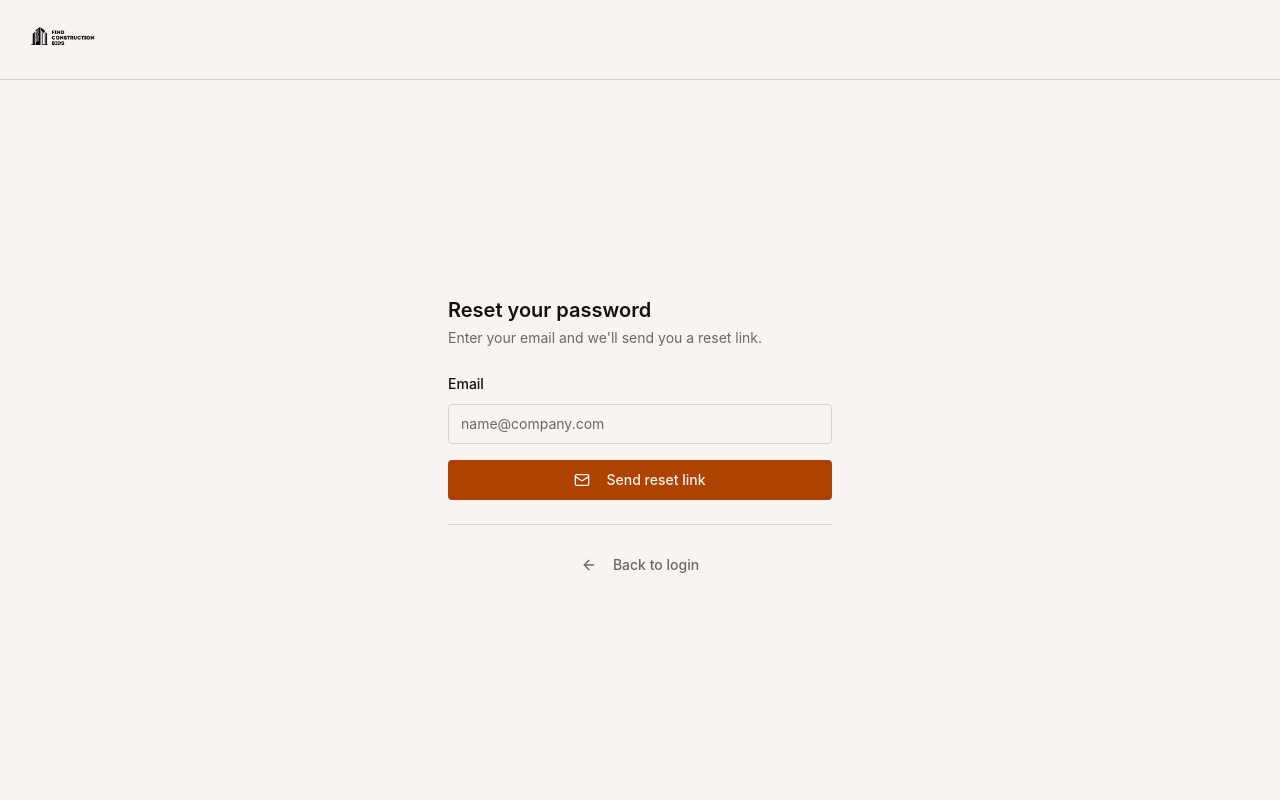
ForgotPasswordPage › API error handling › shows a "Request failed" toast when the API returns a server error
In the field with test id "input-email": (640, 424) [448,404,832,444], type "user@example.com"
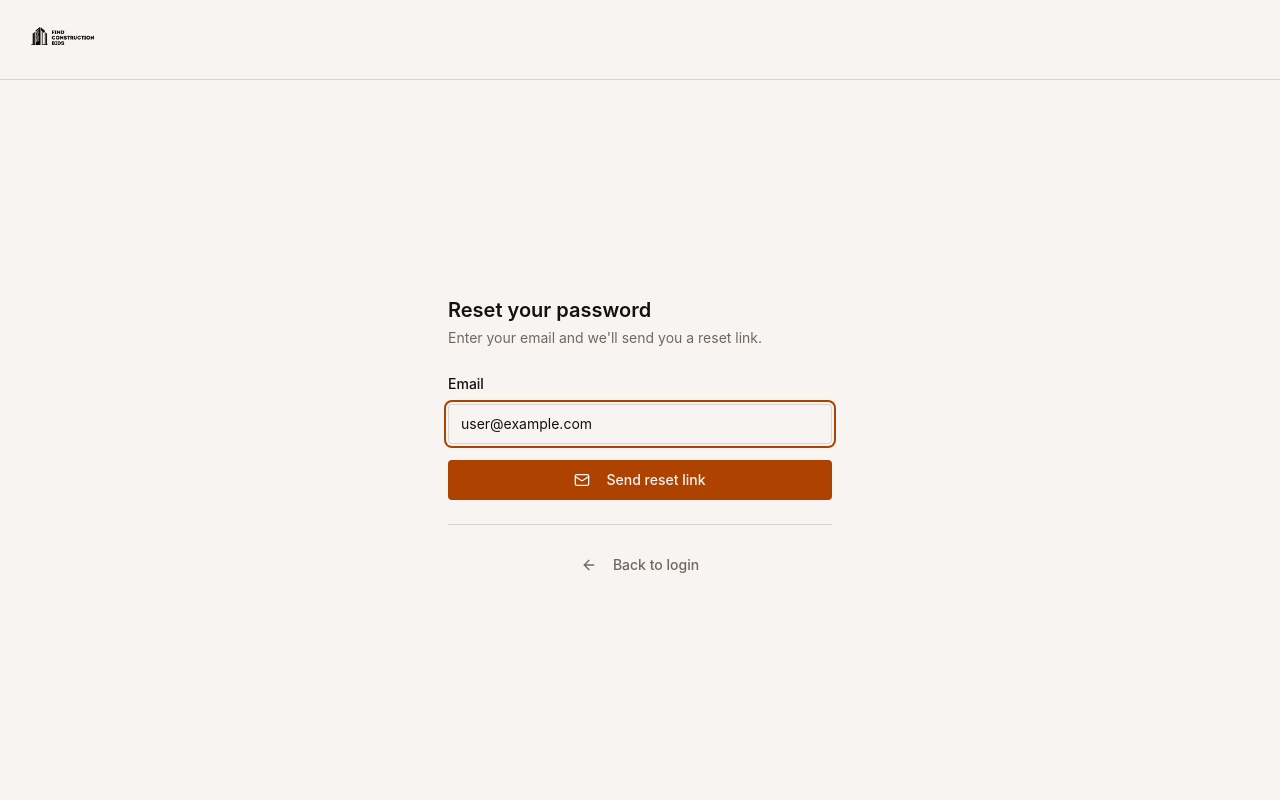
Click the button with test id "button-send-reset": (640, 480) [448,460,832,500]
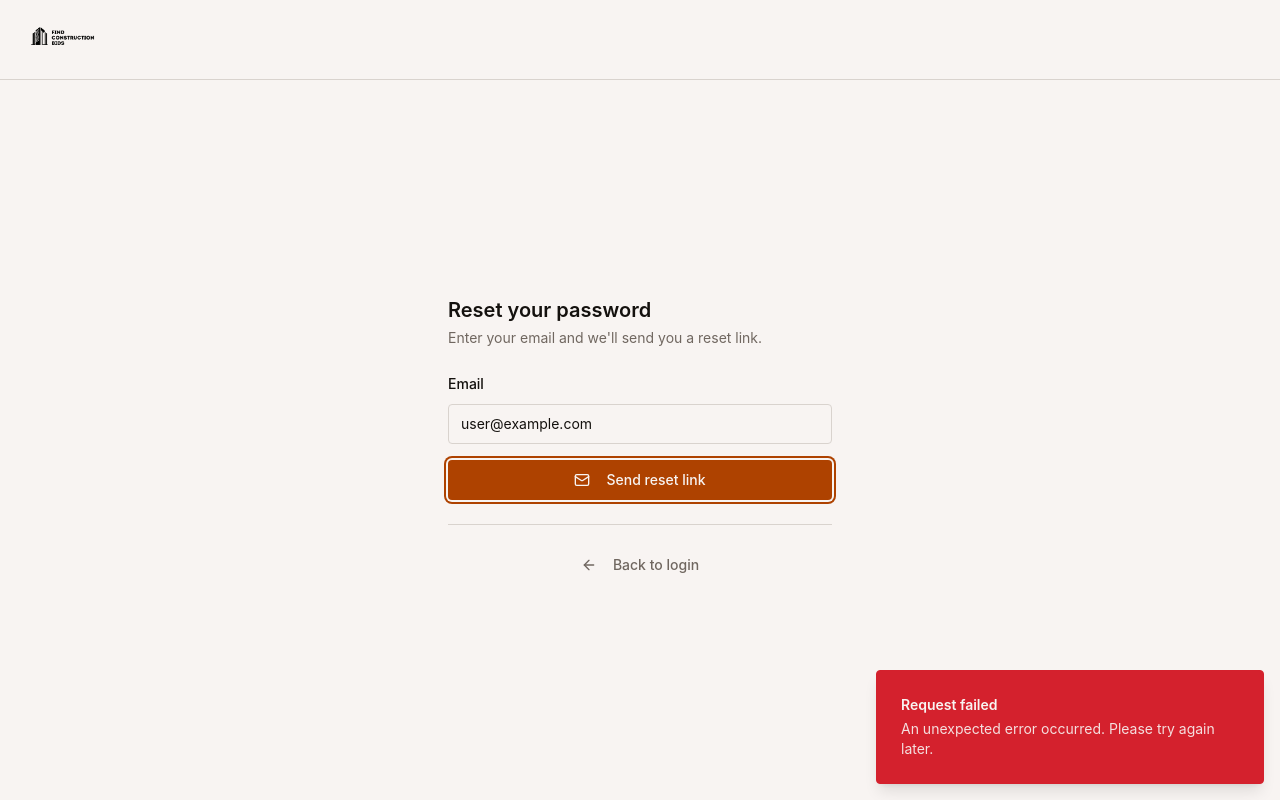
Now the text "Request failed" is shown, box [901,696,998,713]
